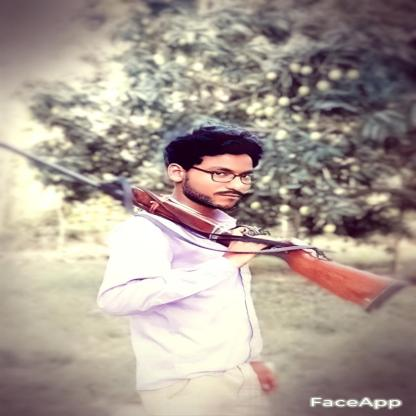rifle: (0, 141, 409, 316)
